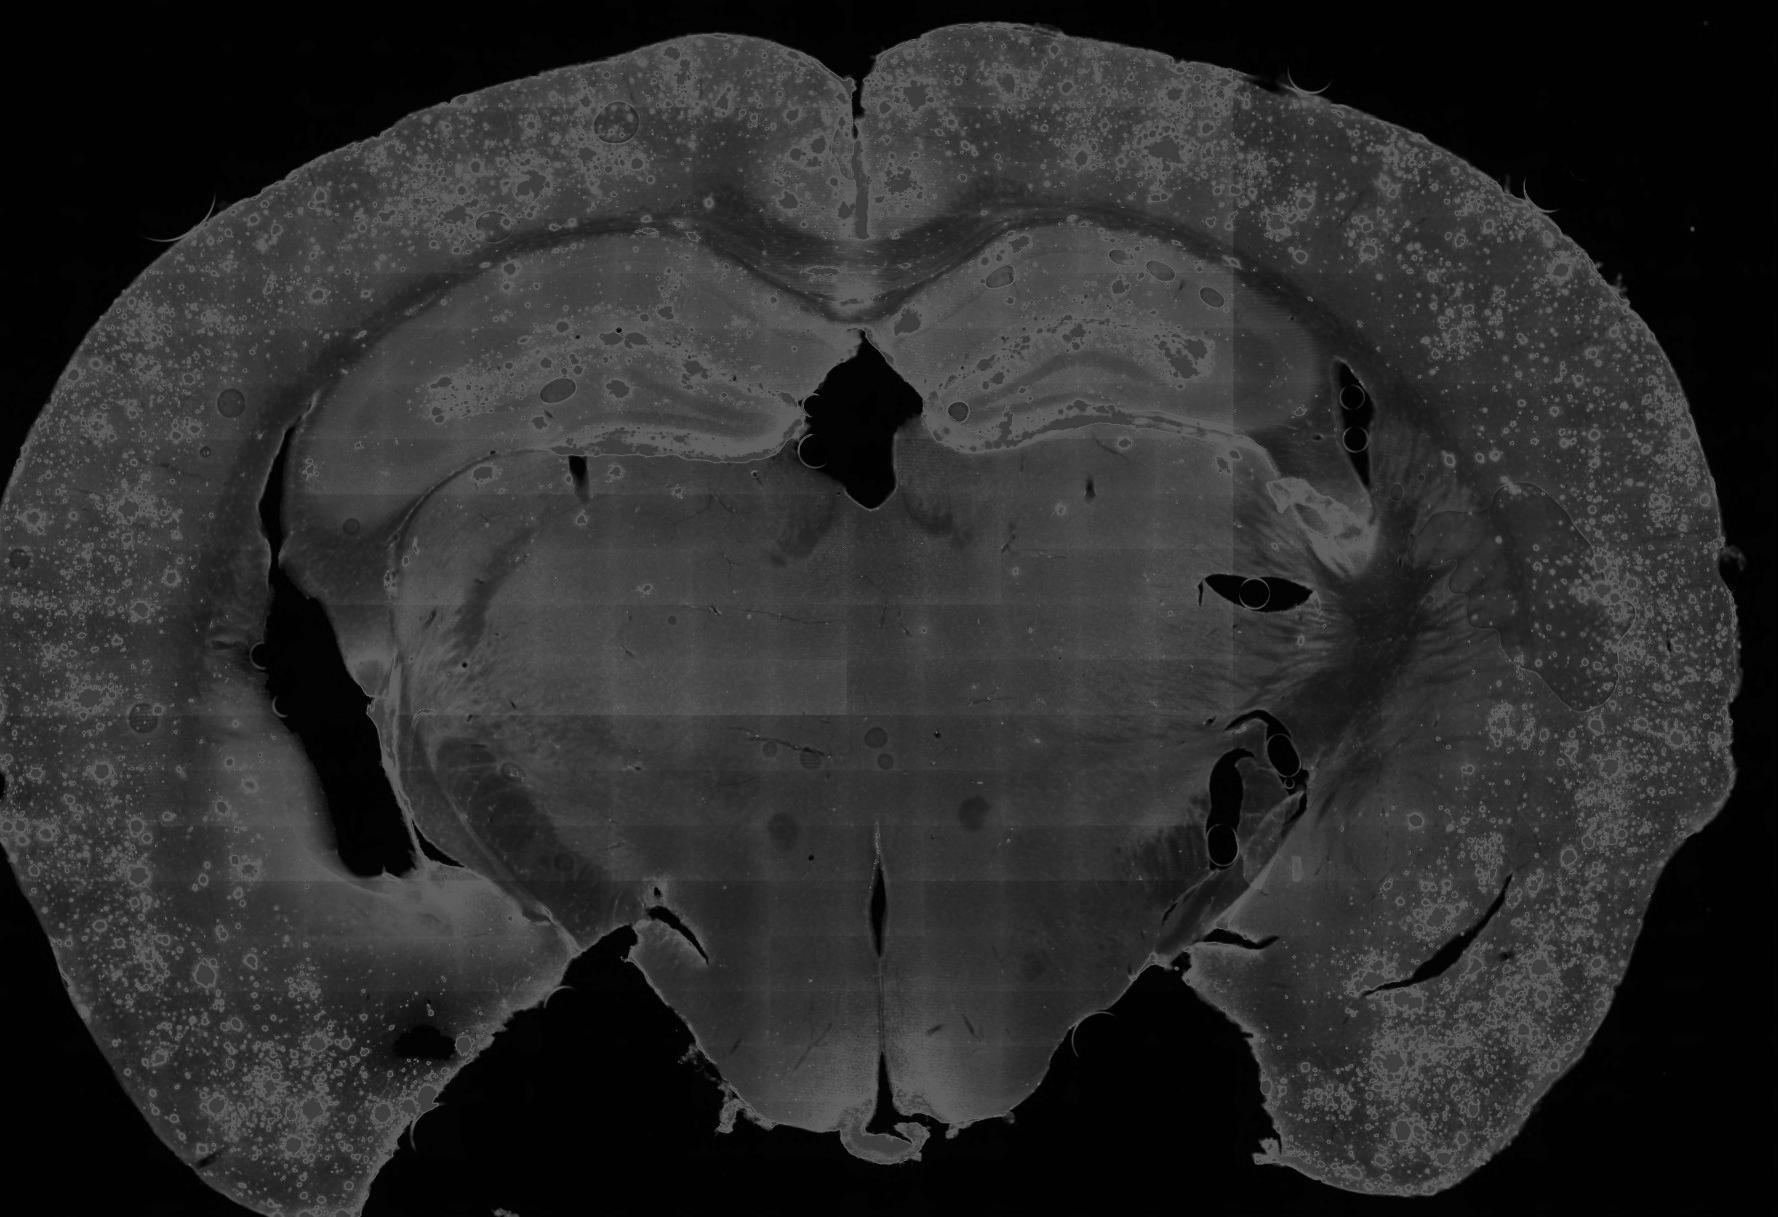Cerebral nuclei: (1365, 405, 1520, 804), (199, 536, 335, 894)
Hippocampal formation: (304, 234, 861, 535), (862, 222, 1317, 454)
Hypothalamus: (880, 715, 1256, 1127), (493, 752, 882, 1132)
Retrosplenial area: (858, 32, 975, 240), (759, 45, 861, 243)
Somatosensory area: (1125, 57, 1728, 590), (1, 65, 609, 563)
Thalamus: (871, 415, 1352, 823), (389, 439, 880, 828)
